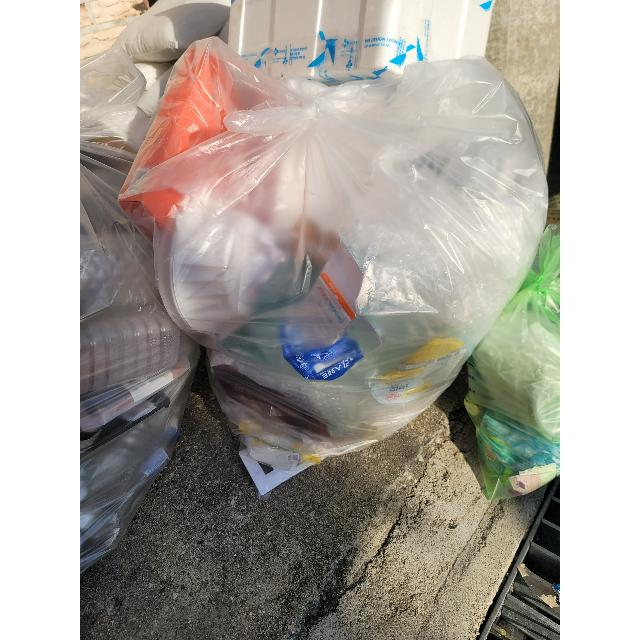general_trashbag: (465, 225, 560, 500)
other_trashbag: (119, 38, 546, 469), (80, 49, 199, 571)
